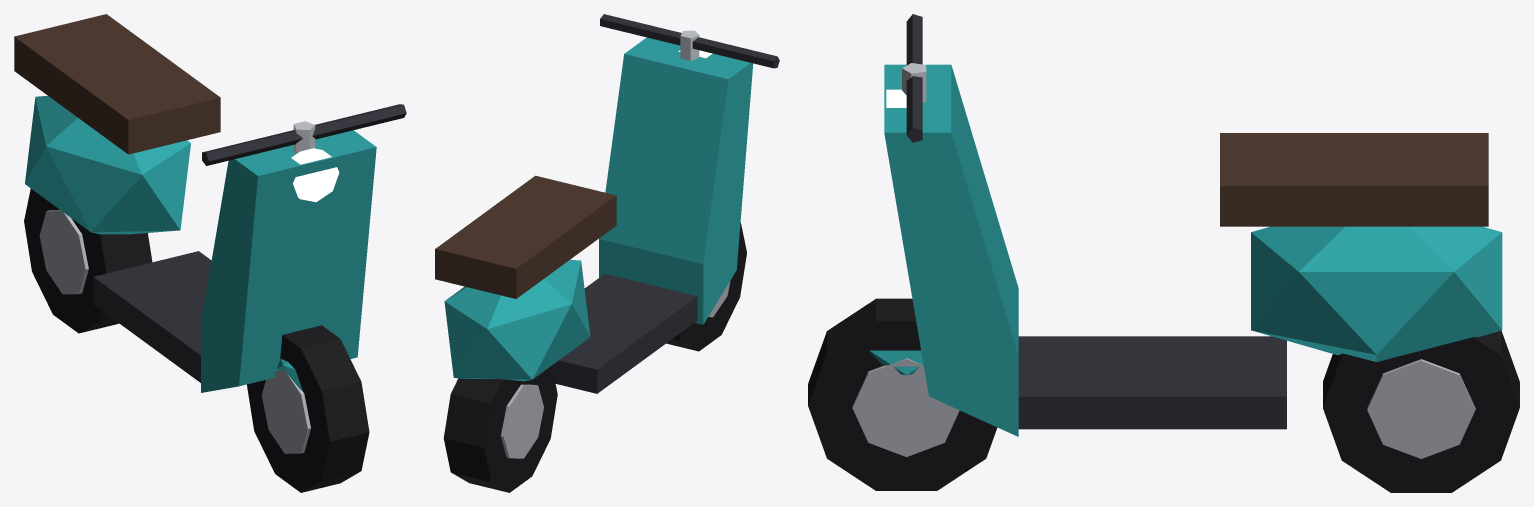
The model's file is scooter.glb.
3 views of the same model, side by side, from view 1: azimuth 30°, elevation 25°; view 2: azimuth 150°, elevation 25°; view 3: azimuth 270°, elevation 25° (orthographic). The views are drawn at different scales.
Parts seen in each view (by area): view 1: scooter; view 2: scooter; view 3: scooter.
Part boxes in pixels (x1,y1,x2,y2): scooter: (14, 14, 406, 492); scooter: (435, 14, 779, 492); scooter: (808, 14, 1519, 492).
Bounding box in the file's own units: 0.6 × 1.01 × 1.59.
